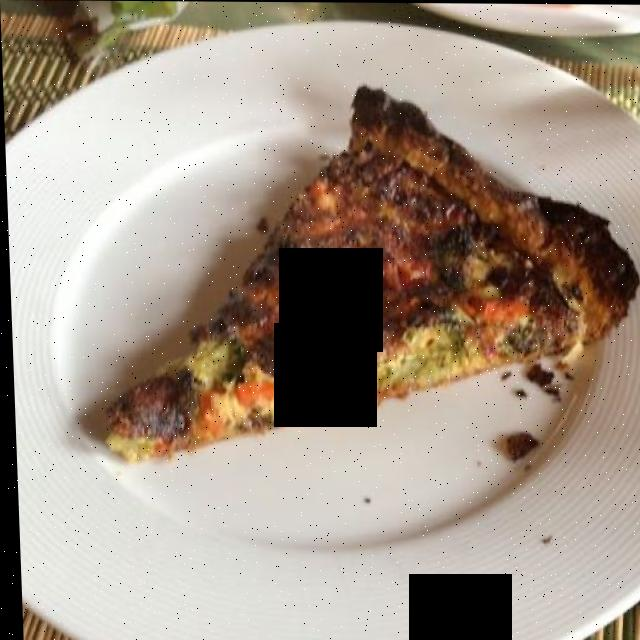salt-cake-vegetables-filled: (105, 99, 629, 453)
